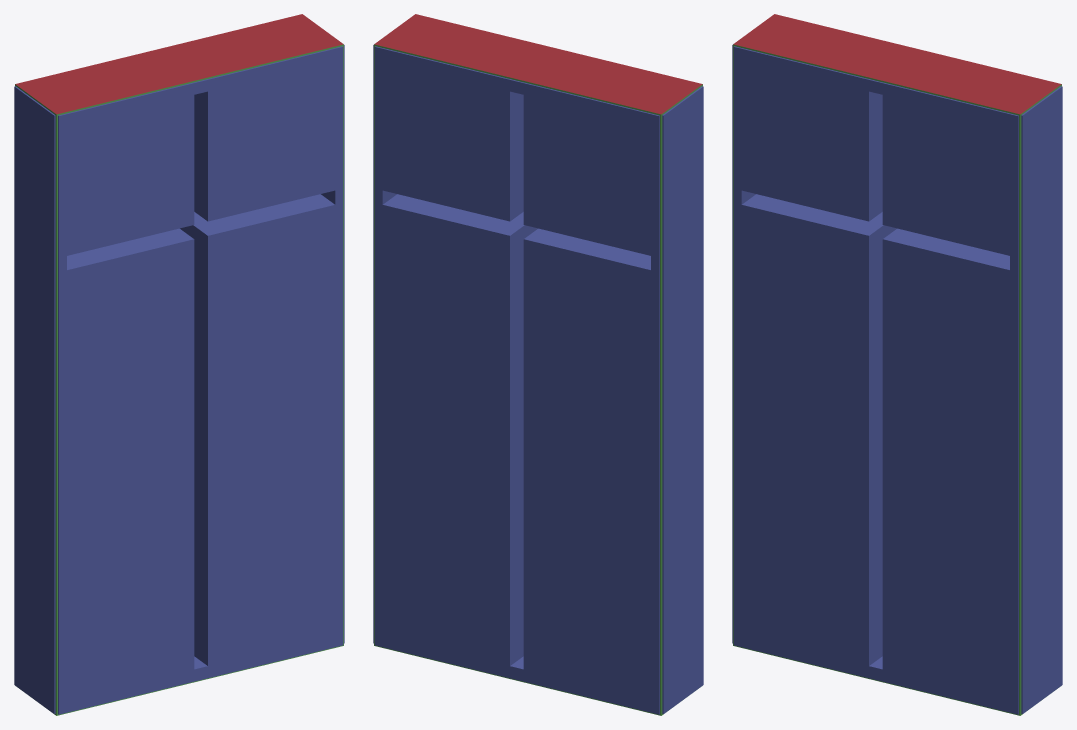
File: SM_Window_02.fbx
3 renders of one model, left to right at view 1: azimuth 30°, elevation 25°; view 2: azimuth 150°, elevation 25°; view 3: azimuth 330°, elevation 25°, orthographic.
Visible parts, largest first — view 1: SM_Window_02; view 2: SM_Window_02; view 3: SM_Window_02.
Part boxes in pixels (x1=…): SM_Window_02: x1=14, y1=14, x2=344, y2=715; SM_Window_02: x1=373, y1=14, x2=703, y2=715; SM_Window_02: x1=732, y1=14, x2=1062, y2=715.
Bounding box in the file's own units: 404 × 800 × 104.
